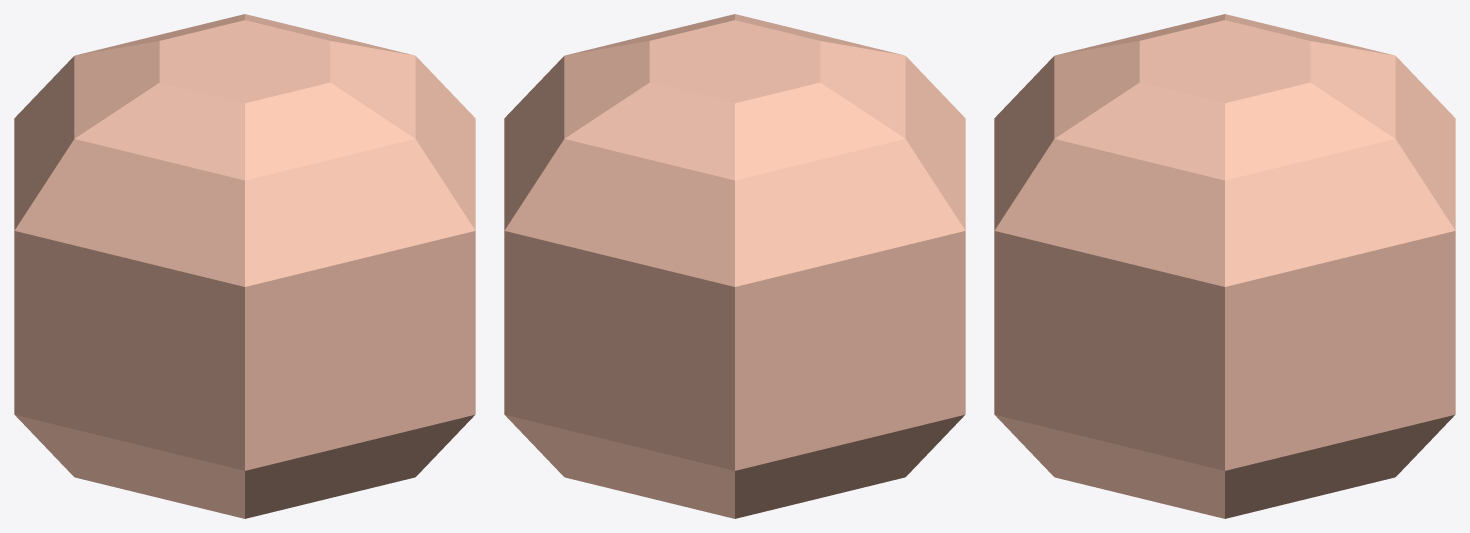
The model's file is meteor.glb.
3 views of the same model, side by side, from view 1: azimuth 30°, elevation 25°; view 2: azimuth 150°, elevation 25°; view 3: azimuth 270°, elevation 25° (orthographic).
Parts seen in each view (by area): view 1: meteor; view 2: meteor; view 3: meteor.
Boxes of the visible parts, x1,y1,x2,y2 form: meteor: (14, 14, 475, 518); meteor: (504, 14, 965, 518); meteor: (994, 14, 1455, 518).
Size of the model in its own units: 0.866 by 0.735 by 0.75.
Materials: 1 (1 with a texture image).
